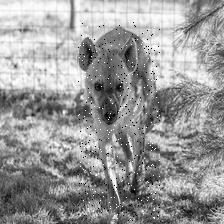hyena: (77, 23, 159, 222)
